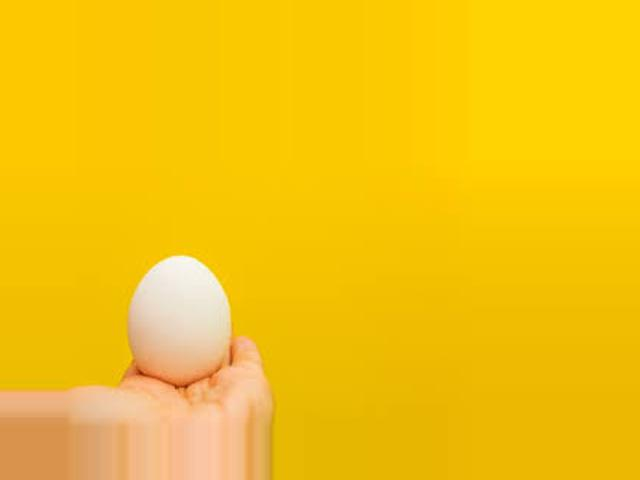egg: (131, 254, 230, 385)
